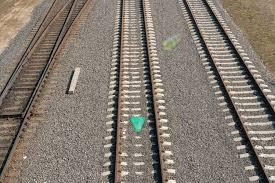Dust_screen: (129, 113, 147, 140)
Green_house: (159, 32, 184, 54)
